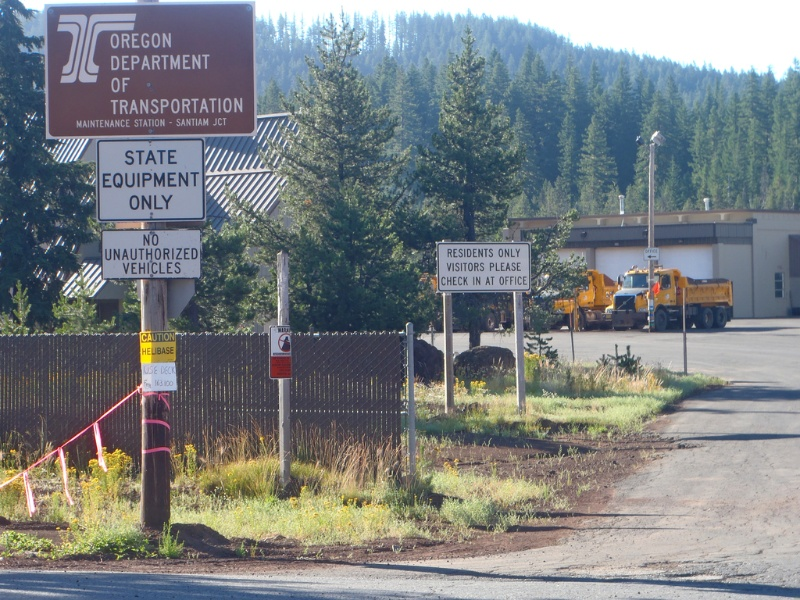no_vehicle: (97, 230, 230, 290)
residents_only: (441, 241, 539, 306)
